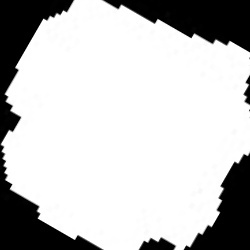spot: (1, 2, 249, 248)
